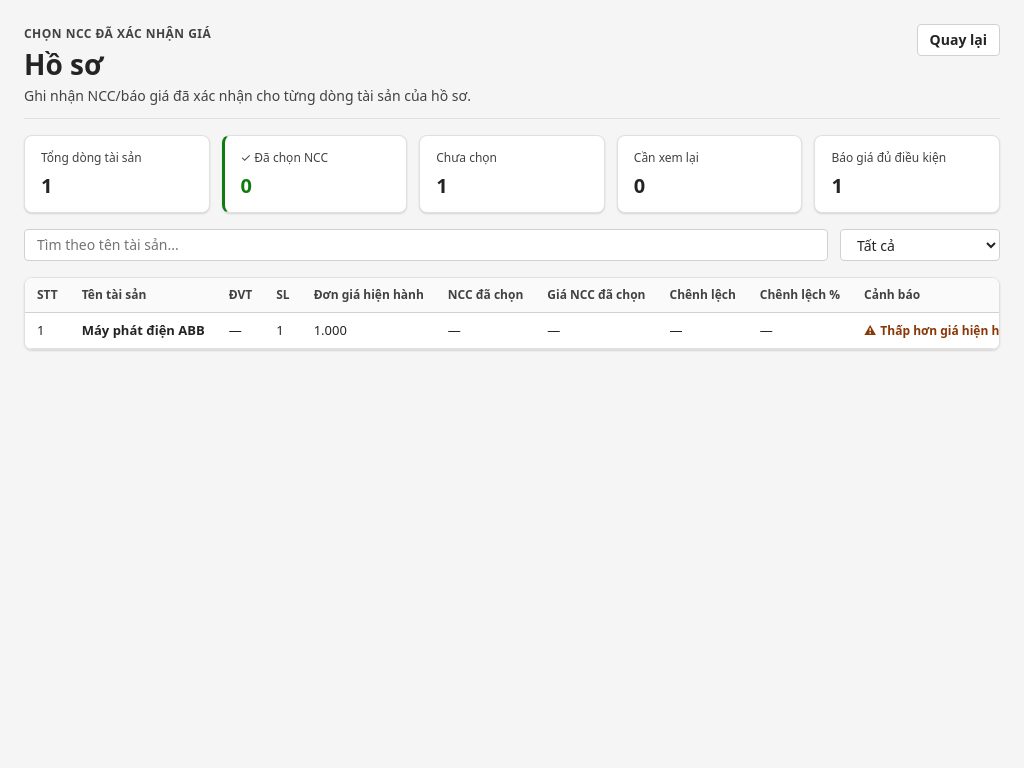
Test: NccSelectionPage › maps a real 409 detail.error_code to VERSION_CONFLICT and reloads
Click the row named "Xem chi tiết: Máy phát điện ABB": point(524, 330) [25,312,1023,348]
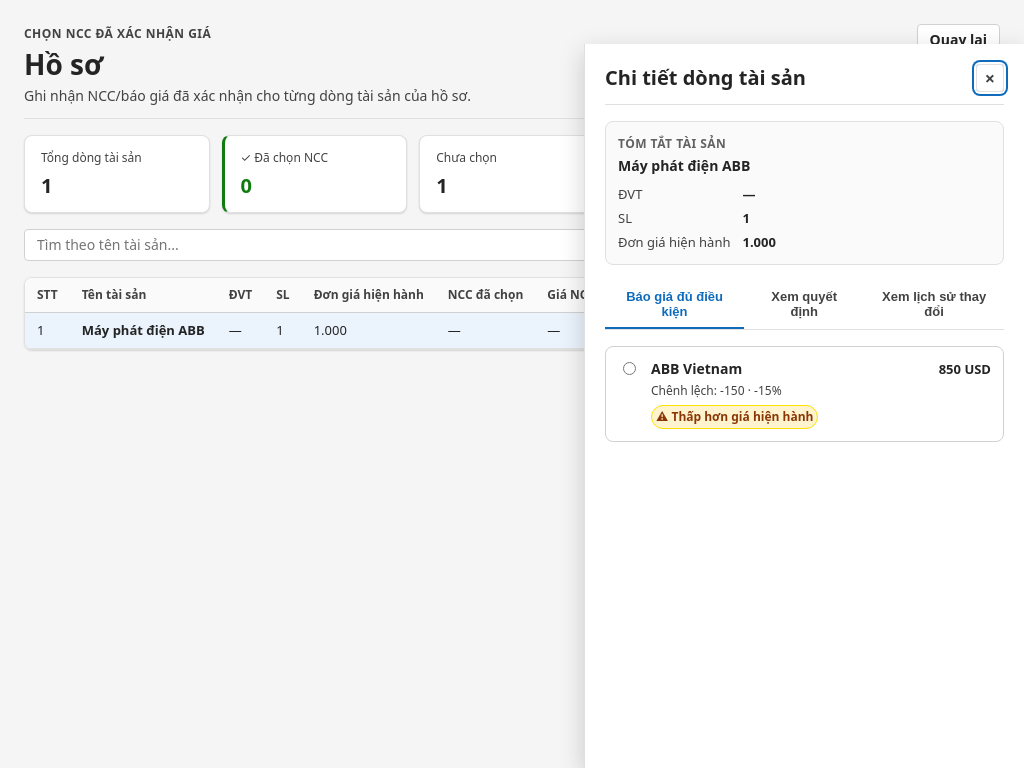
Click the radio button: point(630, 368) [623,362,636,375]
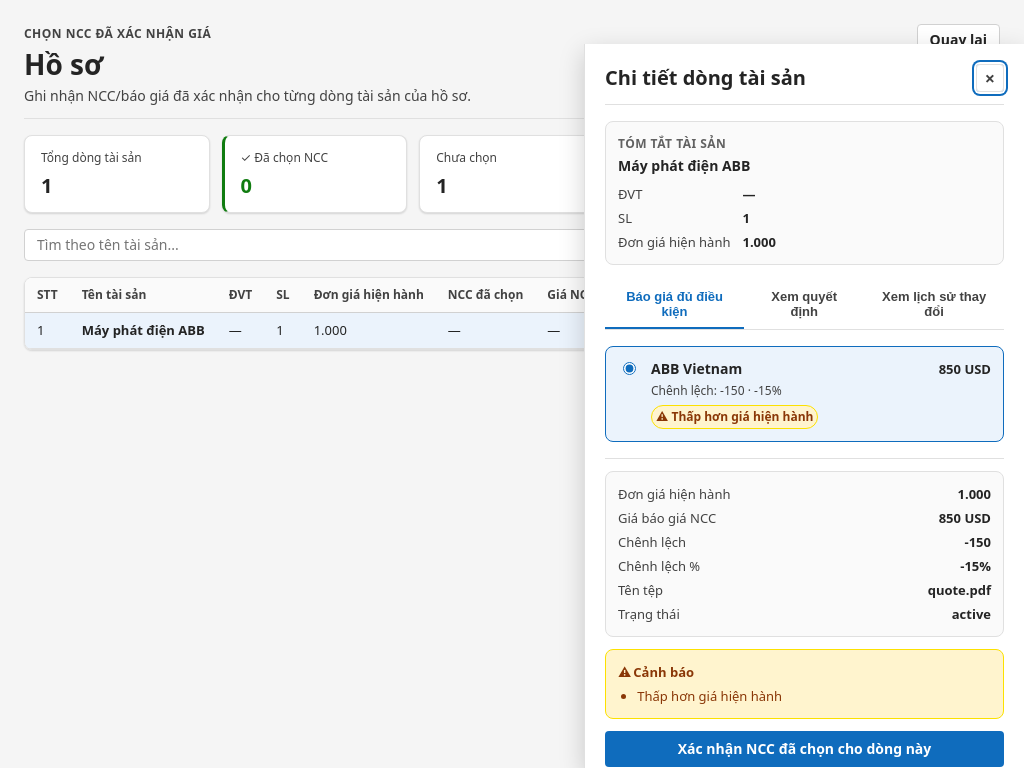
Click the button "Xác nhận NCC đã chọn cho dòng này": point(804, 749) [605,731,1004,767]
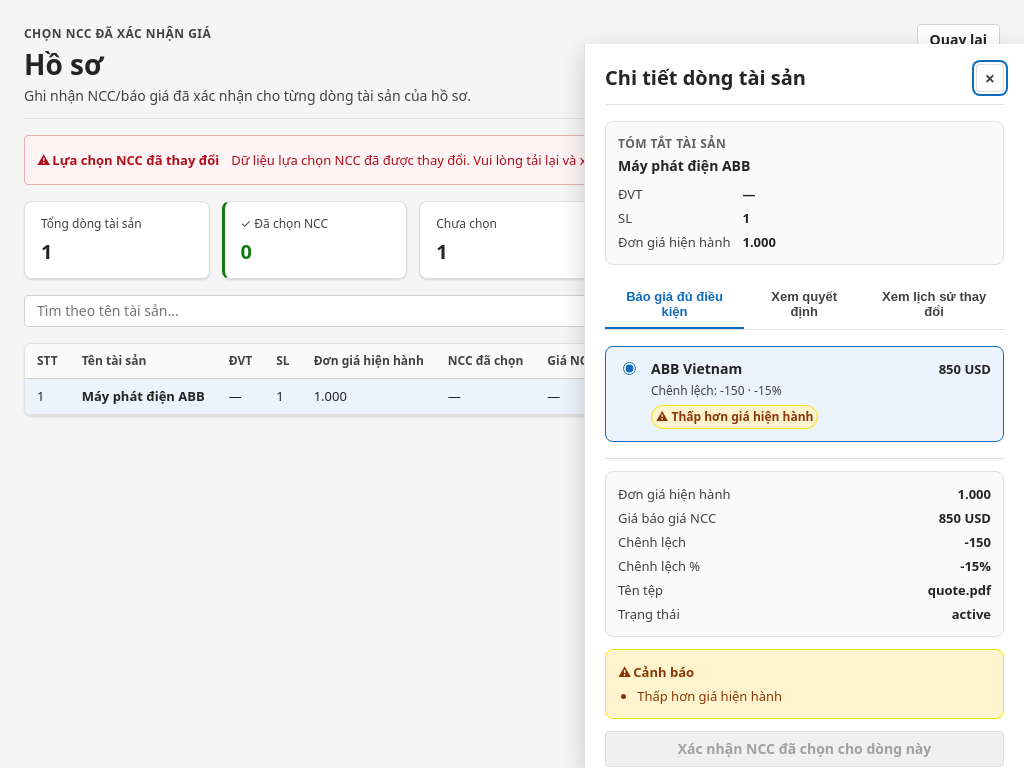
Result: the message is shown at [24,135,1000,185]
Result: the button "Xác nhận NCC đã chọn cho dòng này" is disabled at [605,731,1004,767]
